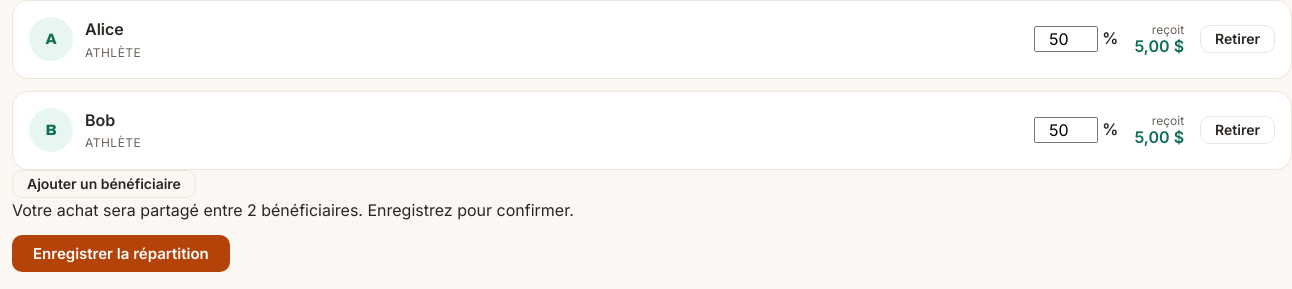
Test case: BeneficiarySplit › ajuster une part redistribue le reliquat aux autres et garde le total à 100 %
Replace the text in the number field named "Part (%) pour Alice" with "70" at (1066, 39), box 1034,26 -> 1098,52
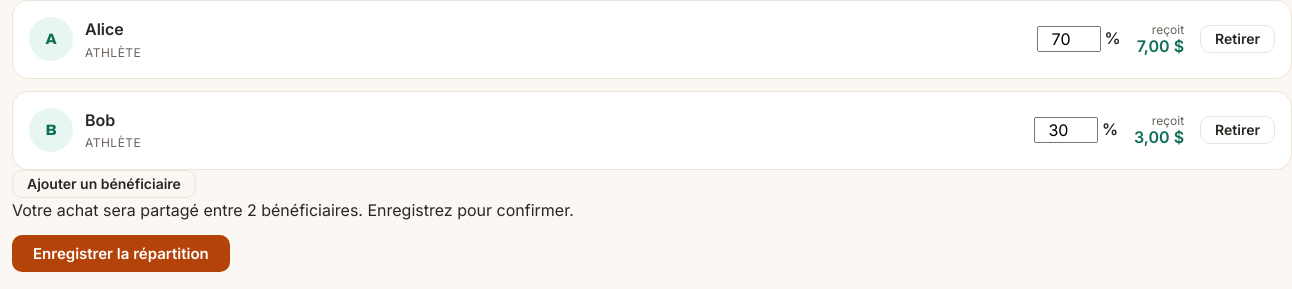
expect the number field named "Part (%) pour Bob" holds "30": met, box 1034,117 -> 1098,143
